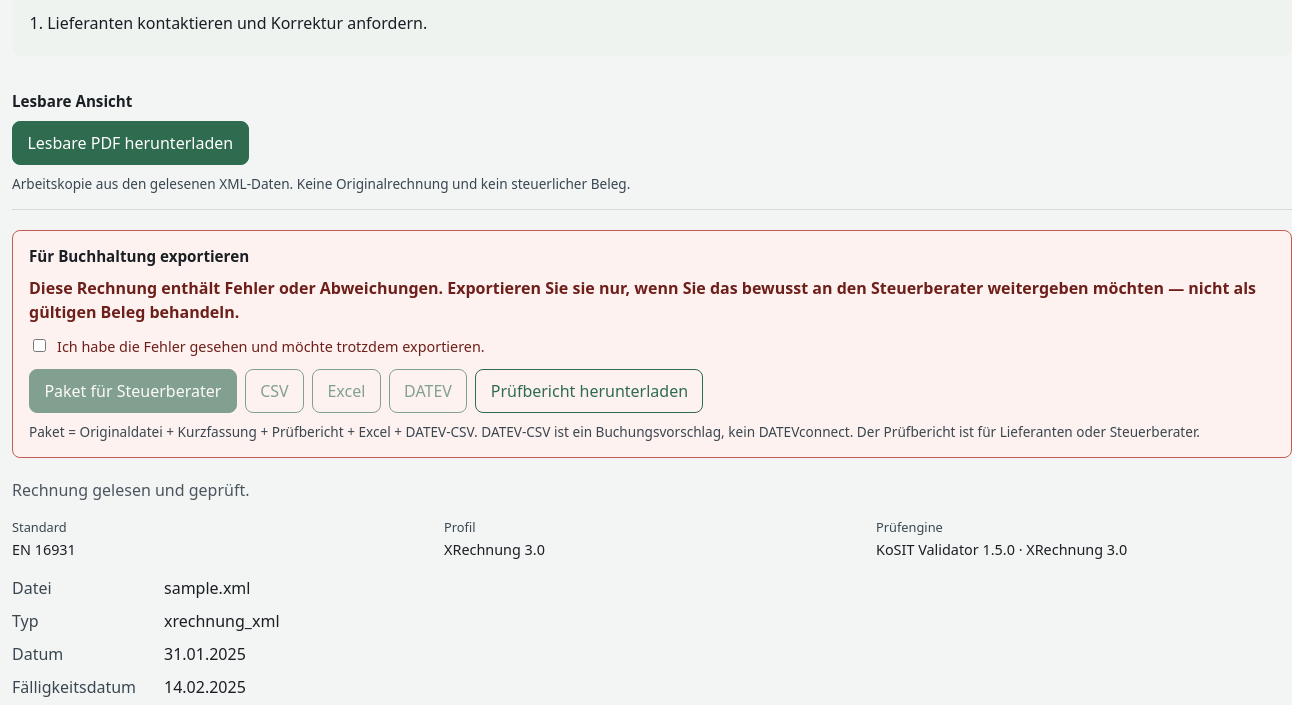
Test: InvoiceView › locks export until the user confirms errors on an invalid invoice
The image size is (1292, 705).
(page scrolled)
Expected: the button "Paket für Steuerberater" is disabled, [29,369,237,413]
Expected: the button "Lesbare PDF herunterladen" is enabled, [12,121,248,165]
Click the checkbox labelled "Ich habe die Fehler gesehen und möchte trotzdem exportieren." at {"x": 40, "y": 346}, box [33,339,46,352]
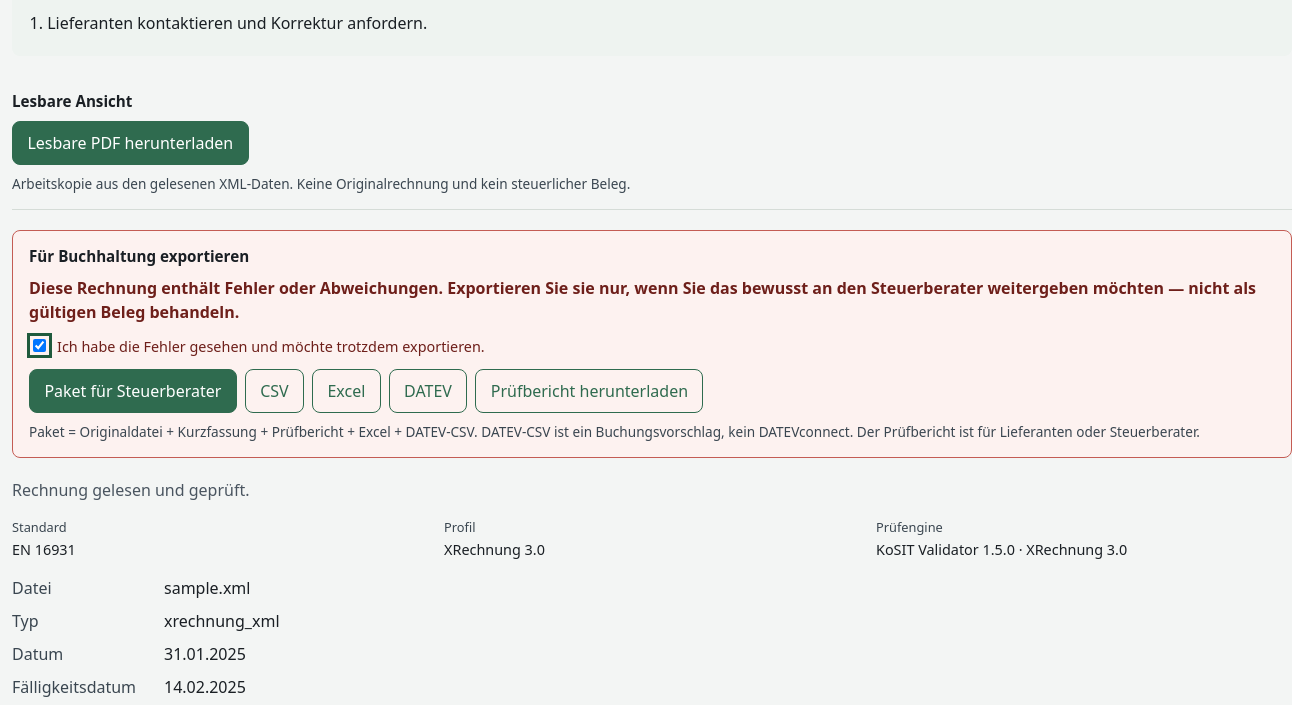
Result: the button "Paket für Steuerberater" is enabled at [29,369,237,413]
